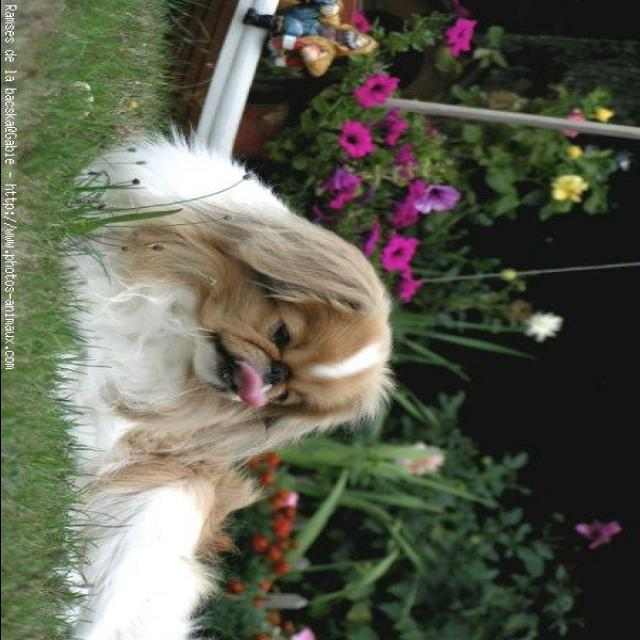husky: (64, 140, 399, 638)
